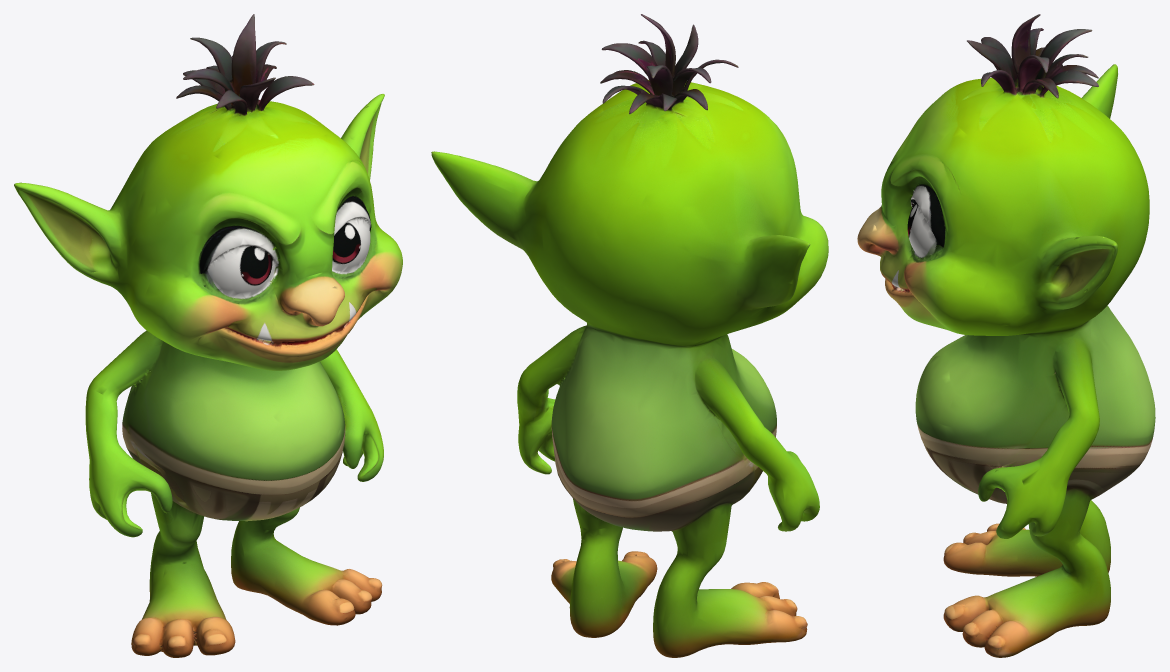
Rendered from credit-goblin.glb.
3 renders of one model, left to right at view 1: azimuth 30°, elevation 25°; view 2: azimuth 150°, elevation 25°; view 3: azimuth 270°, elevation 25°, orthographic. The views are drawn at different scales.
Bounding box in the file's own units: 1.24 × 1.9 × 0.8629.
Materials: 1 (1 with a texture image).
